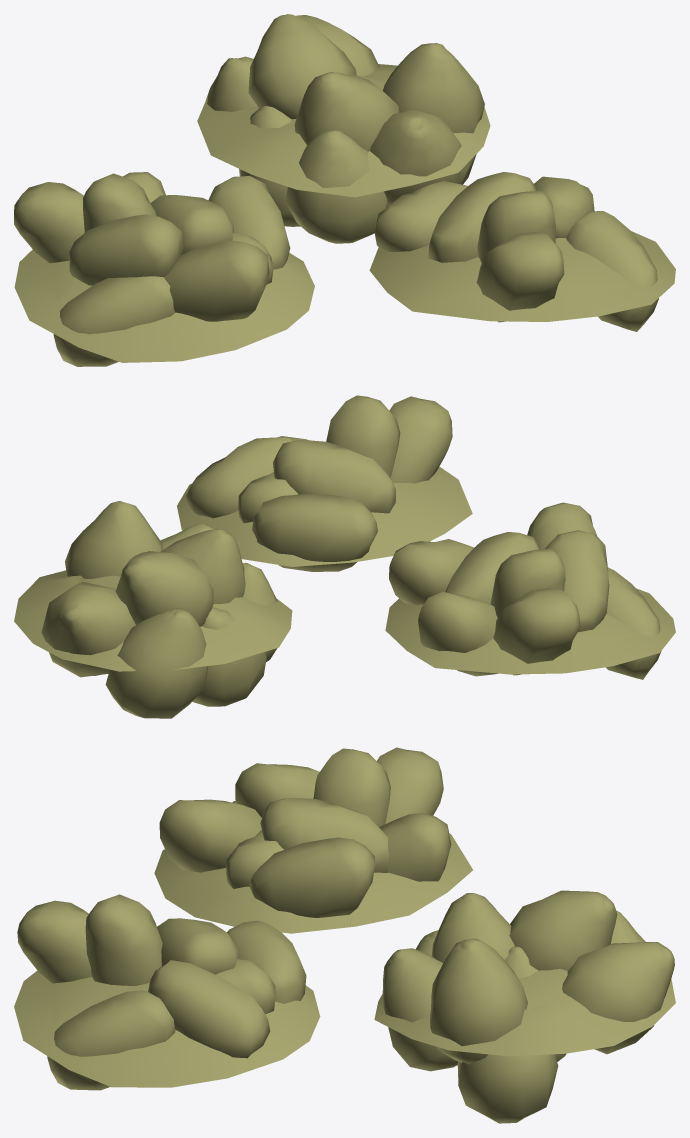
File: Barrel_Vegetable_03A_Lod0.fbx
The picture shows the model from 3 angles, top to bottom: view 1: azimuth 30°, elevation 25°; view 2: azimuth 150°, elevation 25°; view 3: azimuth 270°, elevation 25°; orthographic projection. The views are drawn at different scales.
Visible parts, largest first — view 1: Barrel_Vegetable_03A_Lod0; view 2: Barrel_Vegetable_03A_Lod0; view 3: Barrel_Vegetable_03A_Lod0.
Part boxes in pixels (box(x1,y1,x2,y2)): Barrel_Vegetable_03A_Lod0: box(14, 14, 675, 366); Barrel_Vegetable_03A_Lod0: box(14, 395, 675, 718); Barrel_Vegetable_03A_Lod0: box(14, 747, 675, 1123).
Size of the model in its own units: 91.88 by 26.98 by 92.51.
